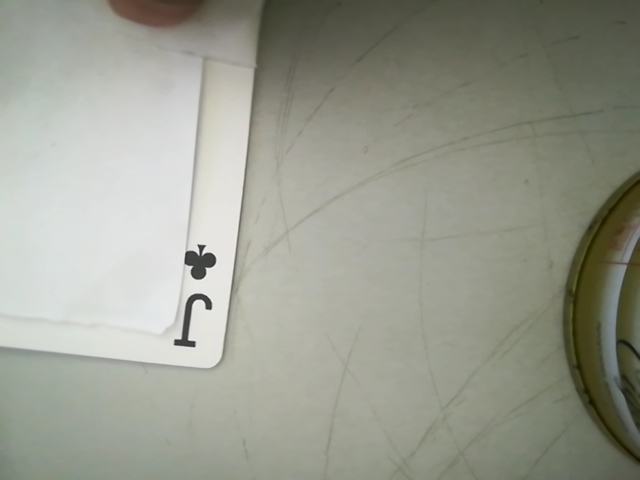mh j: (165, 228, 229, 360)
